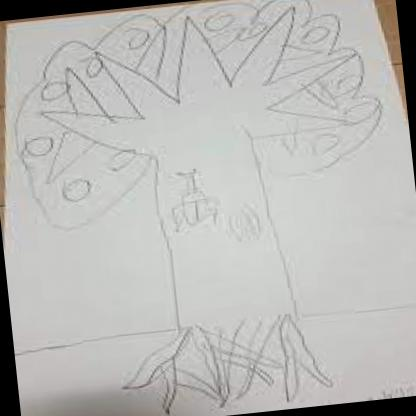apple: (61, 176, 92, 202), (121, 24, 150, 50), (79, 55, 104, 79)
branch_sharp: (30, 0, 365, 183)
crown_cloud: (4, 0, 391, 235)
root_under: (116, 297, 334, 416)
trunk_straight: (154, 177, 293, 301)
